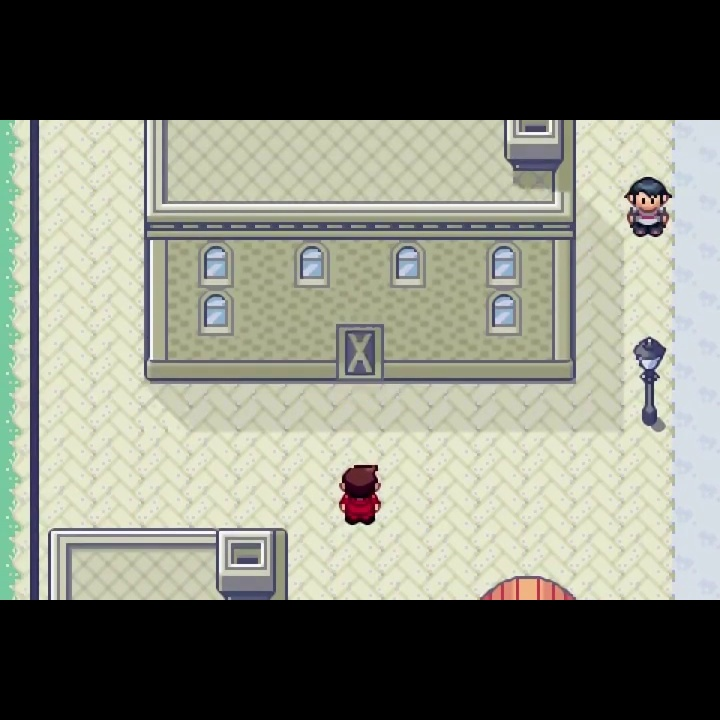house: (141, 120, 579, 386), (44, 525, 290, 601)
npc: (622, 175, 674, 240), (336, 460, 383, 529)
